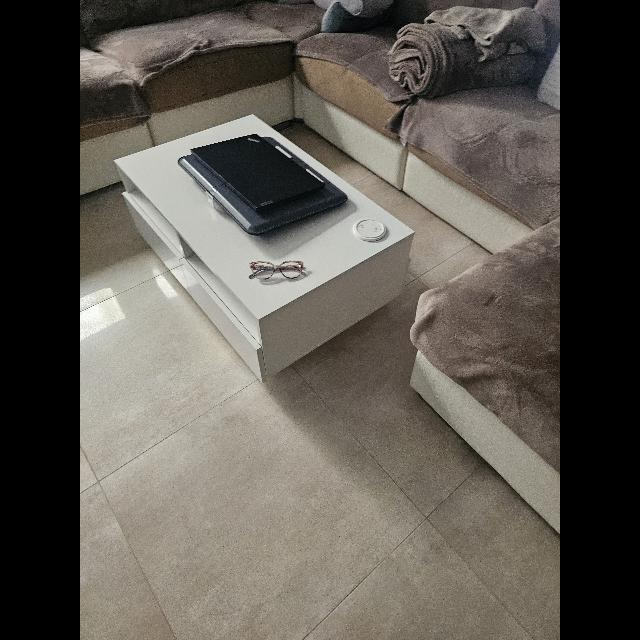glasses: (248, 260, 306, 280)
